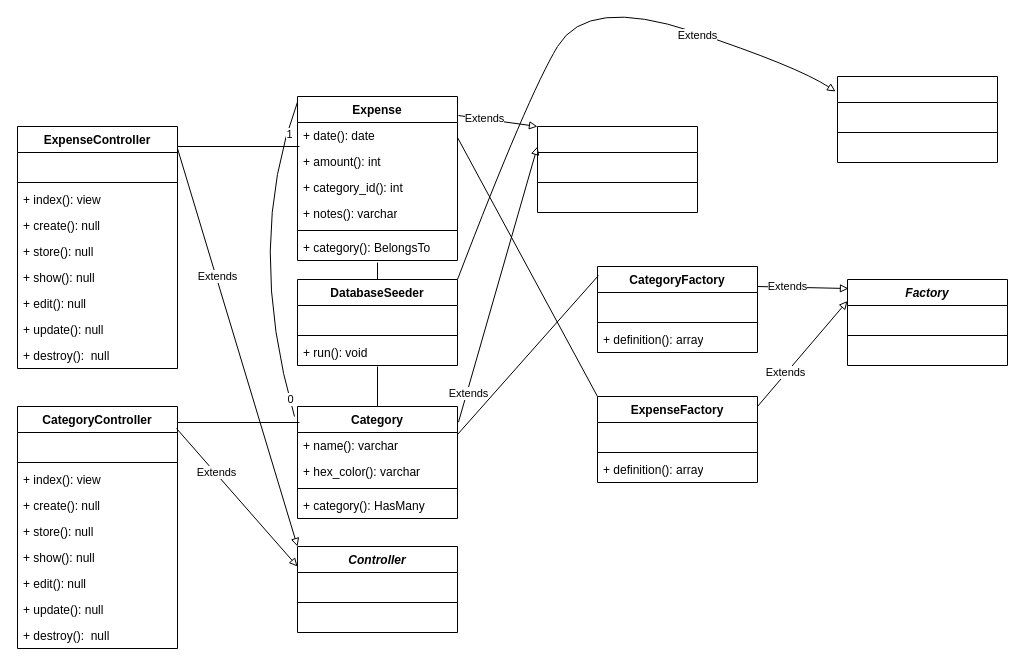
Image size: 1025x669. Some labels were removed from this diagram. Each missing label, with the centre of its shape:
Model: the point at 617,169
Seeder: the point at 917,119
